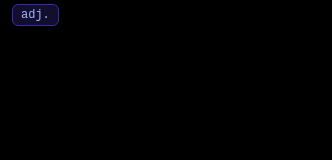
Test: AbbreviationBadge › cierra el popover al presionar Escape
Click the button with aria-label "adj.: Adjetivo" at x=35, y=15, box x1=12 y1=4 x2=59 y2=26
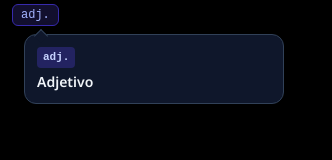
Expected: the tooltip "adj. Adjetivo" is shown, x1=24 y1=34 x2=284 y2=104
Press Escape
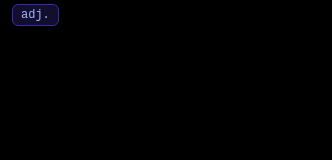
Expected: the tooltip "adj. Adjetivo" is gone
